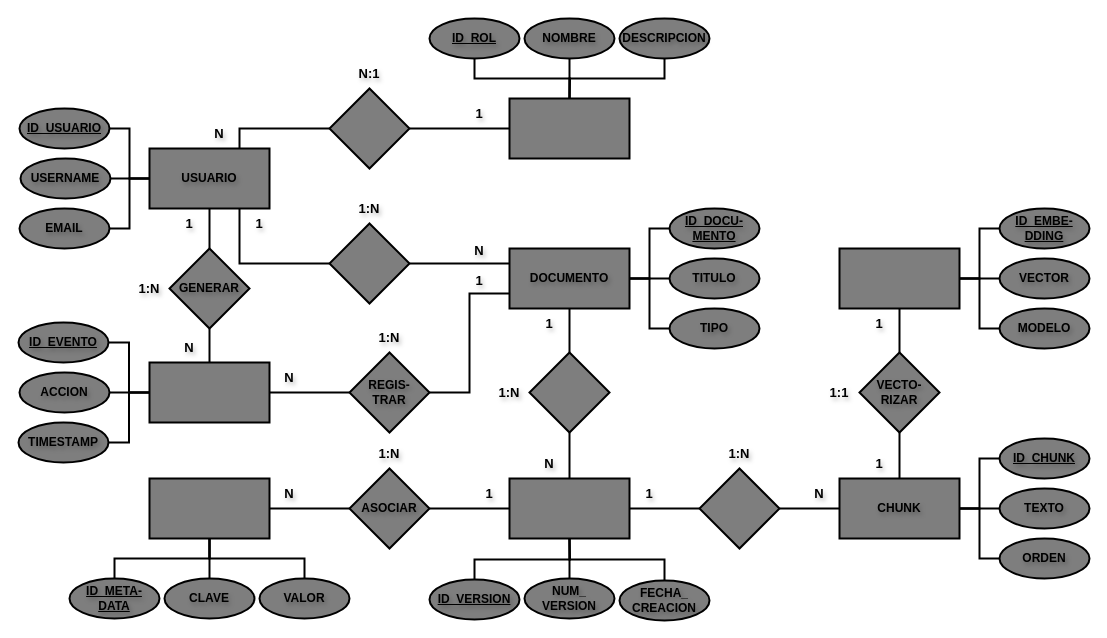
This 1107x638 diagram has some shape labels left out. The shapes that lost their labels are listed below. From the top down, each one's centre as x and y in pixels, then its label:
At point 369,128: "TENER".
At point 569,128: "ROL".
At point 369,263: "GESTIO- NAR".
At point 899,278: "EMBEDDING".
At point 209,392: "EVENTO".
At point 569,392: "VERSIO- NAR".
At point 209,508: "METADATA".
At point 569,508: "VERSION".
At point 739,508: "SEGMEN- TAR".
